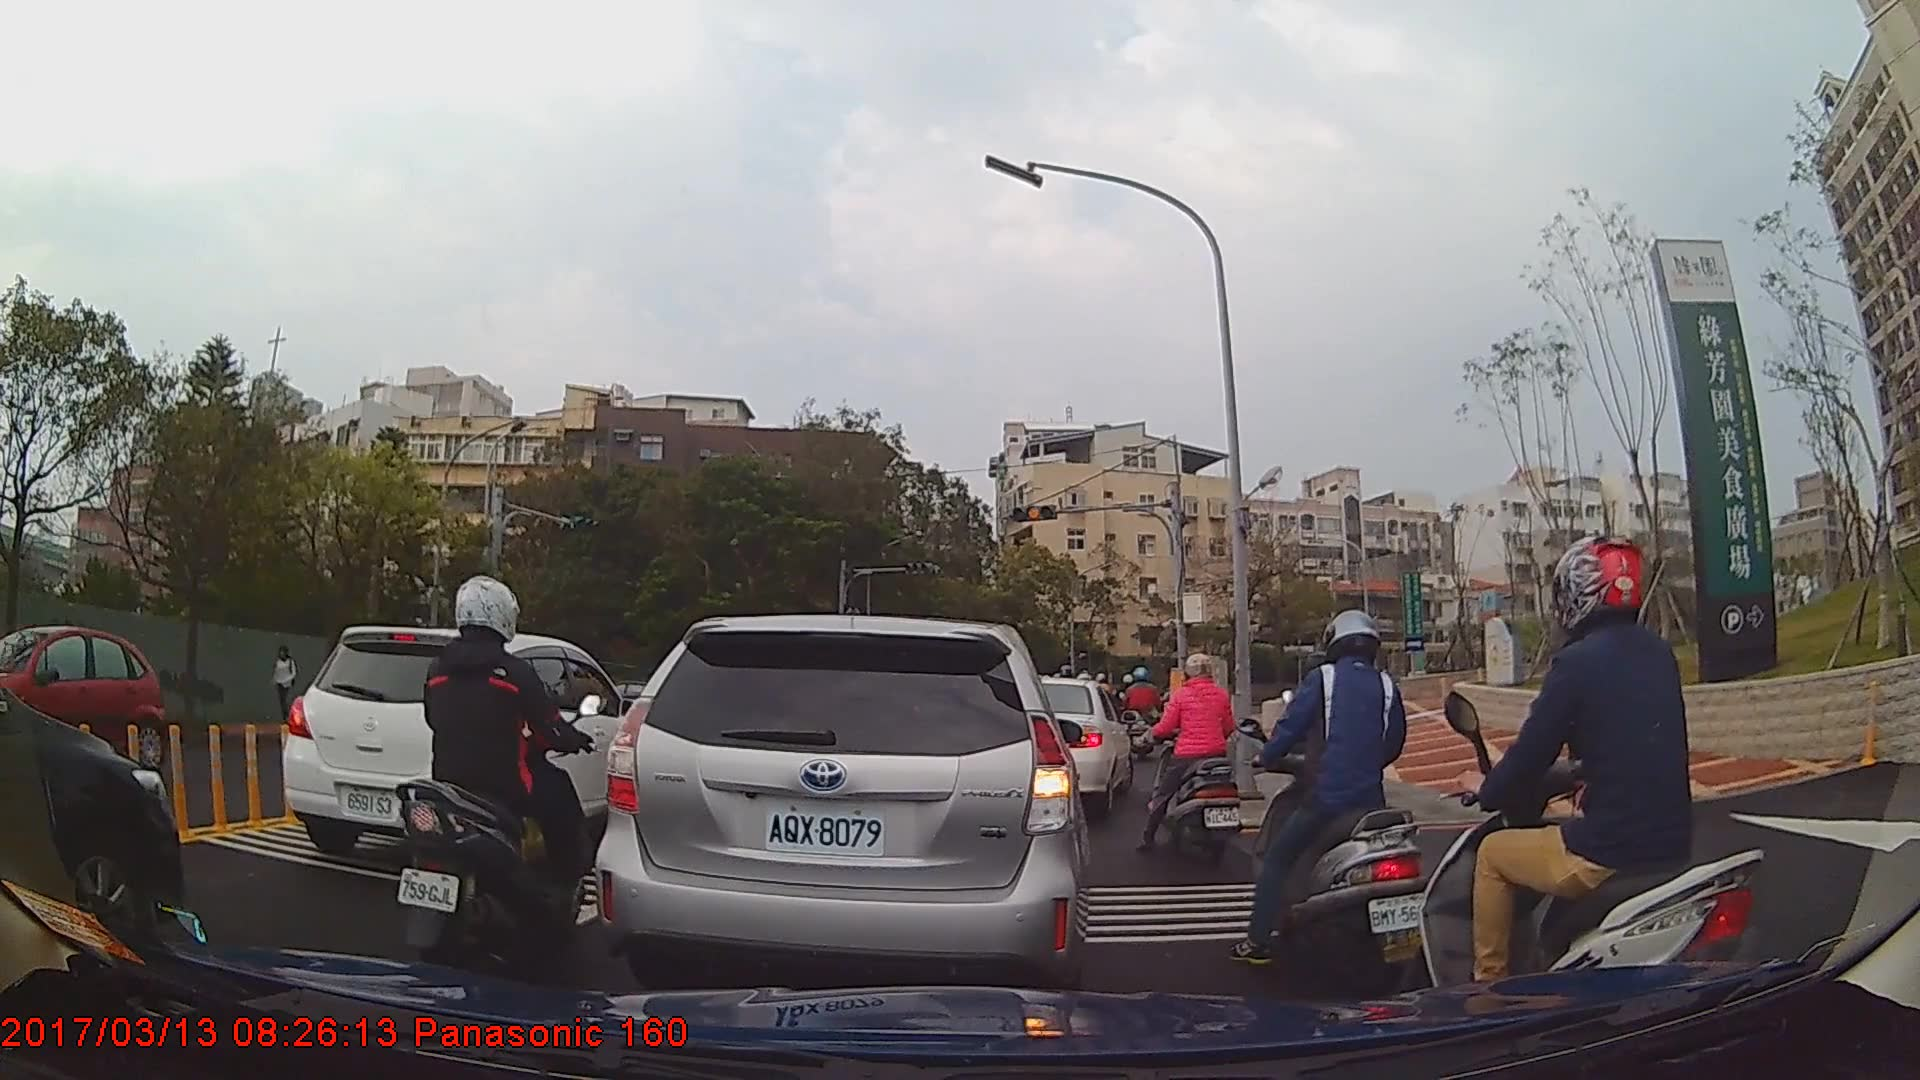pedestrian: (271, 648, 299, 725)
rider: (1423, 534, 1772, 1059), (397, 575, 601, 985), (1241, 608, 1438, 1000), (1140, 652, 1245, 866), (1123, 666, 1162, 763)
vehicle: (593, 612, 1089, 1002), (282, 626, 633, 865), (0, 677, 182, 953), (4, 622, 165, 764), (1023, 675, 1133, 814)
